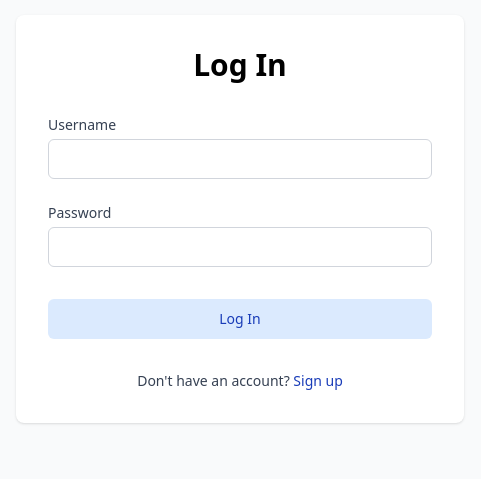
it: Login Component › displays error message when login fails
Type "testuser" into the field labelled "Username" at (240, 159), box [48, 139, 432, 179]
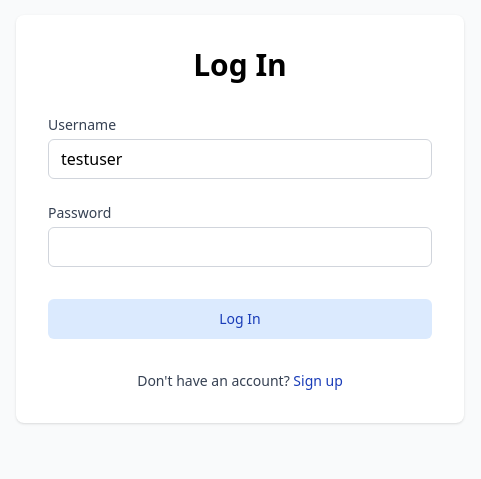
Type "wrongpassword" into the password field labelled "Password" at (240, 247), box [48, 227, 432, 267]
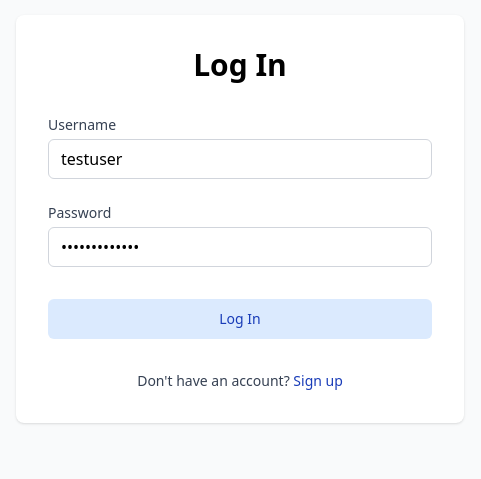
Click the button "Log In" at (240, 319), box [48, 299, 432, 339]
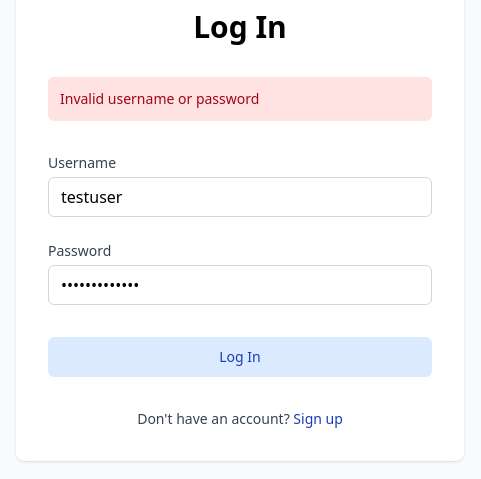
Expected: the text "Invalid username or password" is shown, [48, 77, 432, 121]
